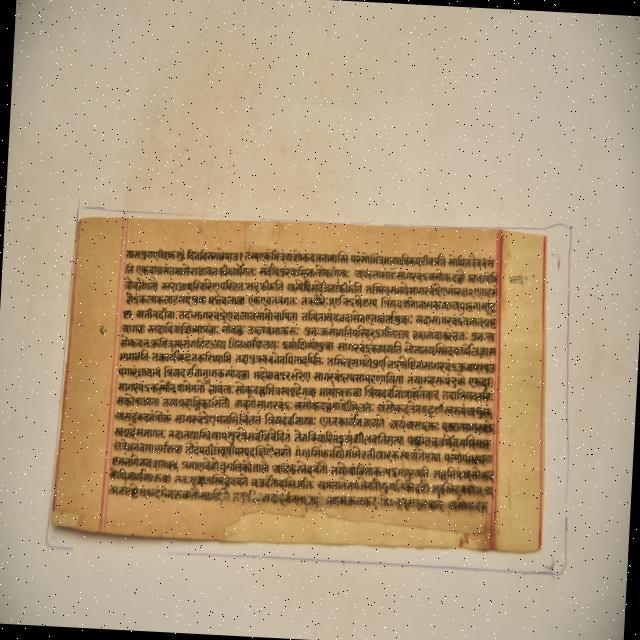text_paragraph: (50, 215, 543, 552)
